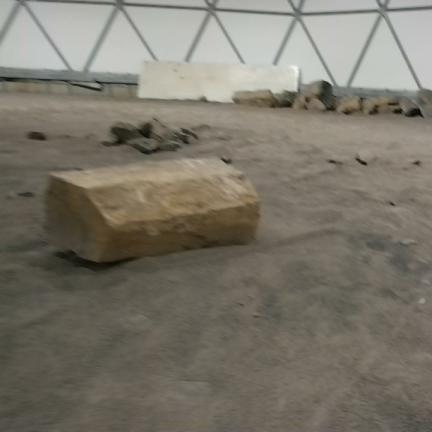Rock: (45, 159, 259, 263), (140, 119, 173, 142), (233, 90, 276, 107), (303, 80, 332, 101), (111, 123, 140, 143), (127, 137, 159, 154), (336, 95, 362, 114), (274, 90, 297, 107), (365, 96, 398, 107), (400, 99, 419, 116), (356, 150, 376, 165), (306, 98, 327, 111), (362, 98, 379, 114), (159, 140, 182, 151), (292, 93, 306, 109), (181, 128, 198, 139), (378, 105, 401, 113), (27, 131, 47, 140), (175, 132, 190, 143), (326, 159, 343, 165), (400, 239, 417, 245), (220, 157, 232, 164), (413, 161, 421, 166), (389, 202, 395, 206)
